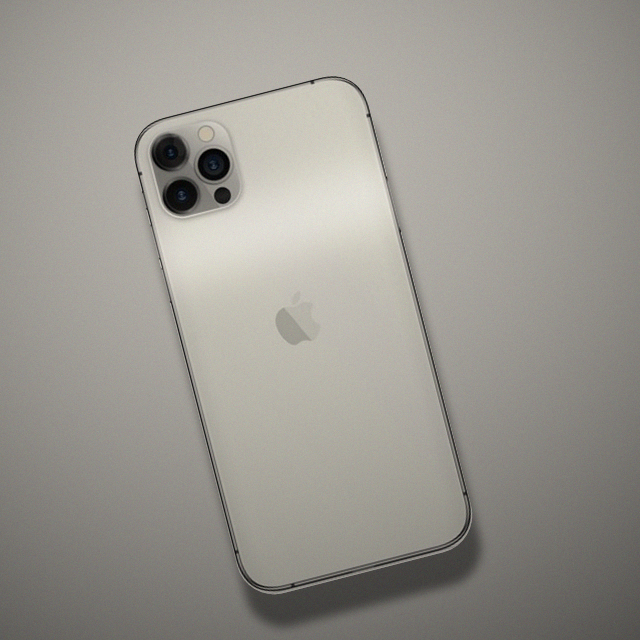iphone_12pro_silver: (107, 59, 497, 628), (134, 112, 255, 224)
